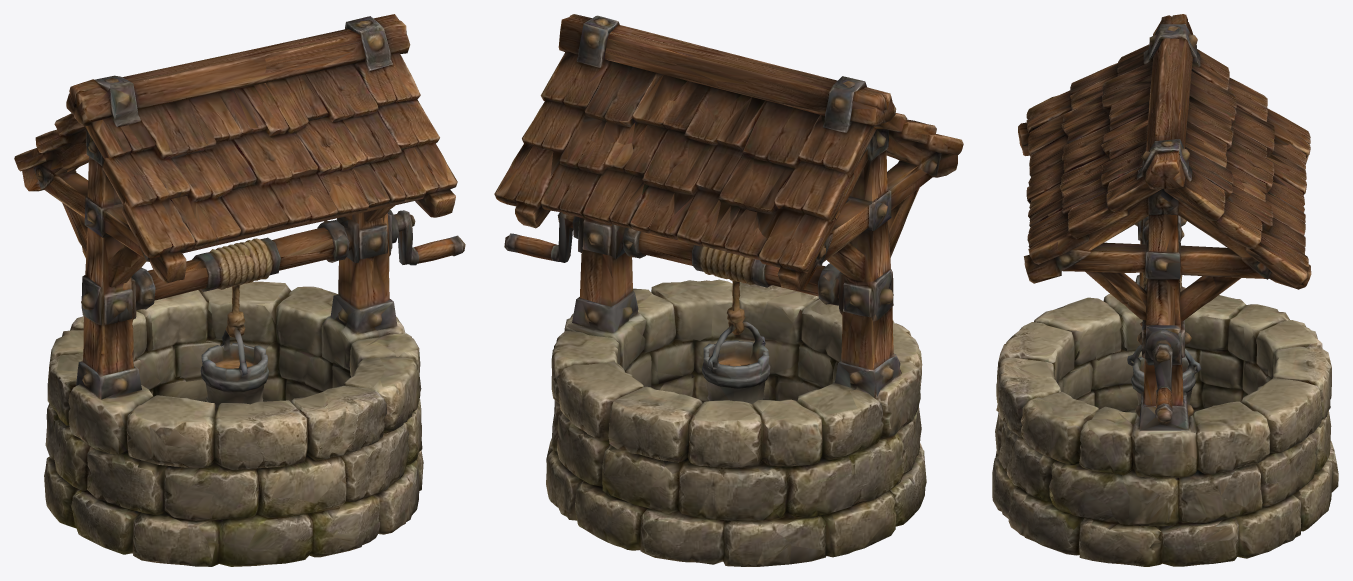
Rendered from well.glb.
The picture shows the model from 3 angles, left to right: view 1: azimuth 30°, elevation 25°; view 2: azimuth 150°, elevation 25°; view 3: azimuth 270°, elevation 25°; orthographic projection. The views are drawn at different scales.
Parts seen in each view (by area): view 1: nebeljagd-tripo-well; view 2: nebeljagd-tripo-well; view 3: nebeljagd-tripo-well.
Boxes of the visible parts, x1=… form: nebeljagd-tripo-well: x1=14, y1=14, x2=465, y2=566; nebeljagd-tripo-well: x1=494, y1=14, x2=963, y2=566; nebeljagd-tripo-well: x1=992, y1=14, x2=1338, y2=566.
Size of the model in its own units: 2.25 by 2.4 by 1.82.
Materials: 1 (1 with a texture image).
